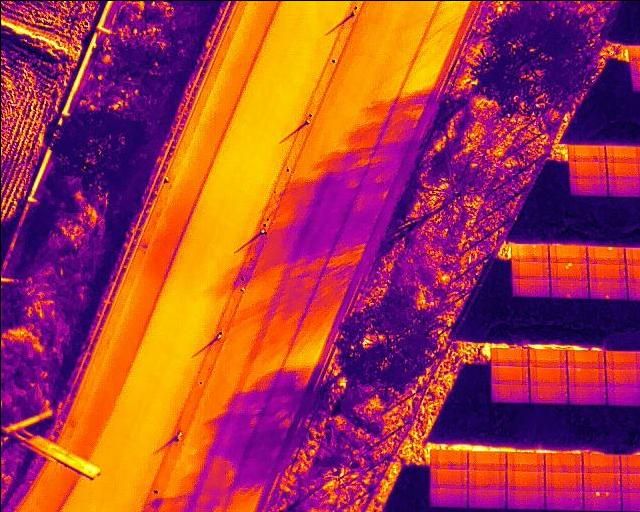Cell: (510, 243, 549, 261), (588, 281, 626, 299), (587, 246, 624, 264), (568, 367, 605, 385), (549, 281, 588, 297)
Cell-Multi: (549, 262, 587, 281), (582, 491, 620, 510)
No-Anomaly: (506, 470, 544, 490), (490, 383, 529, 402), (528, 349, 566, 368), (467, 451, 505, 470), (581, 453, 619, 472), (467, 470, 505, 489), (582, 472, 620, 491), (544, 490, 582, 509), (544, 454, 581, 473), (430, 487, 467, 506), (510, 261, 549, 279), (529, 384, 568, 402), (604, 350, 640, 369), (490, 366, 528, 384), (604, 386, 640, 405), (430, 451, 468, 469), (467, 489, 505, 507), (506, 490, 544, 508), (547, 244, 587, 261), (490, 348, 527, 366), (568, 385, 605, 403), (430, 468, 467, 486), (506, 453, 545, 470), (607, 176, 640, 196), (568, 178, 606, 195), (511, 279, 549, 296), (544, 473, 582, 490), (528, 367, 568, 383), (605, 144, 640, 162), (568, 144, 605, 161), (588, 264, 625, 281), (567, 350, 604, 367), (604, 369, 640, 386), (568, 162, 606, 178), (607, 161, 640, 175)
